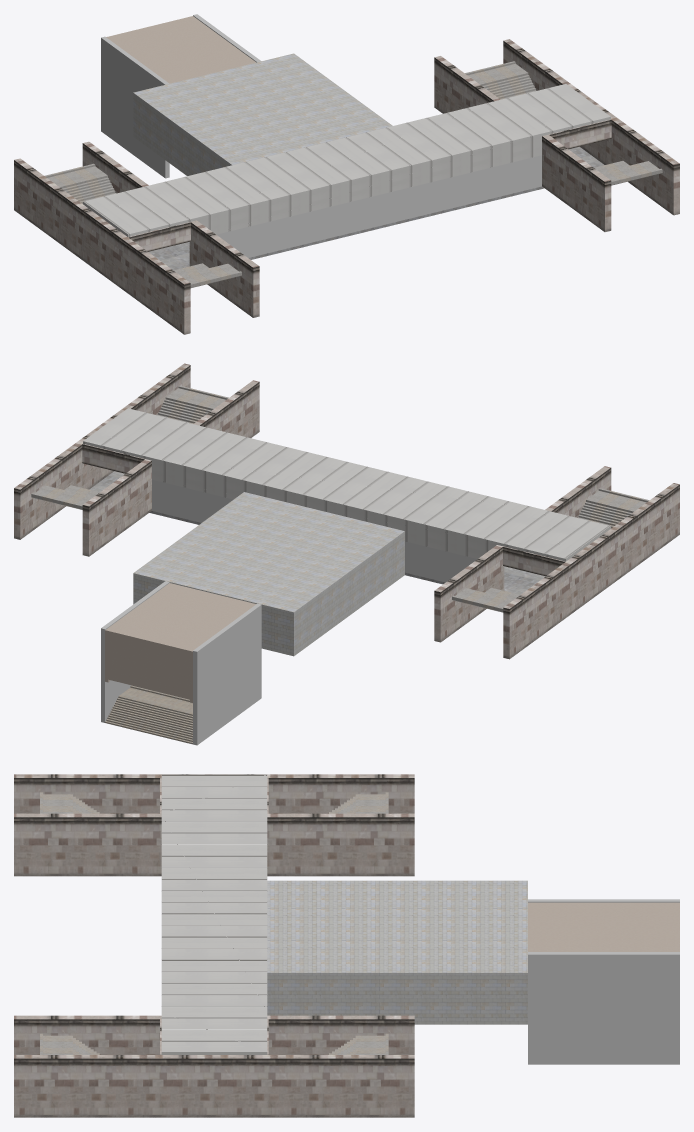
Rendered from Subway05_CorridorInter.FBX.
The picture shows the model from 3 angles, top to bottom: view 1: azimuth 30°, elevation 25°; view 2: azimuth 150°, elevation 25°; view 3: azimuth 270°, elevation 25°; orthographic projection. The views are drawn at different scales.
Visible parts, largest first — view 1: Subway05_CorridorCeil, Subway05_aStairWall, Subway05_Inter, Subway05_CorridorWall, Subway05StairUp, Subway05_aStair, Subway05StairWall01, Subway05_CorridorFloor; view 2: Subway05_aStairWall, Subway05_CorridorCeil, Subway05_Inter, Subway05StairUp, Subway05StairWall01, Subway05_aStair, Subway05_CorridorWall, Subway05Stair, Subway05_CorridorFloor; view 3: Subway05_aStairWall, Subway05_Inter, Subway05_CorridorCeil, Subway05StairWall01, Subway05StairUp, Subway05_aStair.
Boxes of the visible parts, x1,y1,x2,y2 form: Subway05_CorridorCeil: [83, 84, 610, 236]; Subway05_aStairWall: [14, 39, 679, 334]; Subway05_Inter: [133, 53, 392, 175]; Subway05_CorridorWall: [217, 155, 541, 257]; Subway05StairUp: [106, 16, 255, 83]; Subway05_aStair: [44, 61, 662, 287]; Subway05StairWall01: [101, 14, 261, 178]; Subway05_CorridorFloor: [148, 146, 604, 270]; Subway05_aStairWall: [14, 363, 679, 659]; Subway05_CorridorCeil: [83, 408, 610, 561]; Subway05_Inter: [133, 492, 404, 656]; Subway05StairUp: [105, 583, 256, 702]; Subway05StairWall01: [101, 581, 261, 745]; Subway05_aStair: [31, 385, 649, 612]; Subway05_CorridorWall: [152, 479, 477, 582]; Subway05Stair: [105, 685, 192, 744]; Subway05_CorridorFloor: [89, 471, 545, 594]; Subway05_aStairWall: [14, 774, 414, 1117]; Subway05_Inter: [267, 880, 527, 1024]; Subway05_CorridorCeil: [161, 774, 267, 1054]; Subway05StairWall01: [528, 899, 679, 1064]; Subway05StairUp: [528, 902, 679, 951]; Subway05_aStair: [40, 792, 388, 1054].
Bounding box in the file's own units: 78938 × 16018 × 78107.
